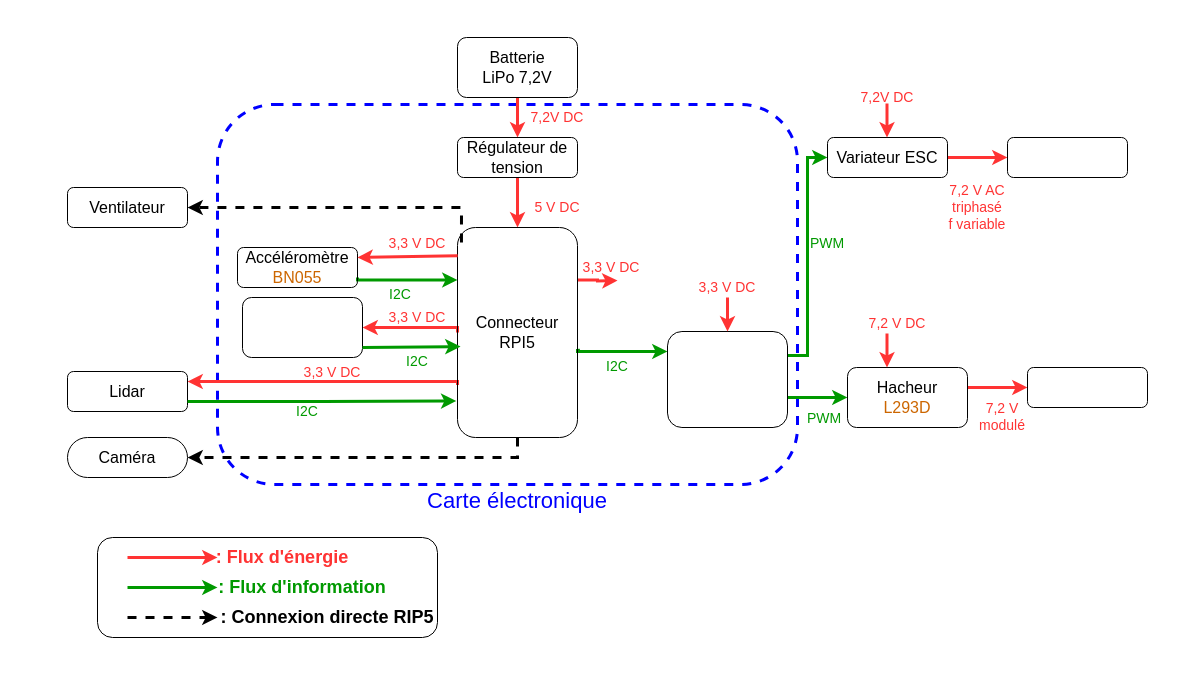
Some shapes in this 1204 by 674 pixel diagram are drawn without their labels. Each missing label, with the centre of its shape:
"Capteur de pression LPS22HB" belongs at point (302, 327).
"Générateur PWM PCA9685" belongs at point (727, 379).
"MCC x2" belongs at point (1087, 387).
"Moteur BLDC x6" belongs at point (1067, 157).
